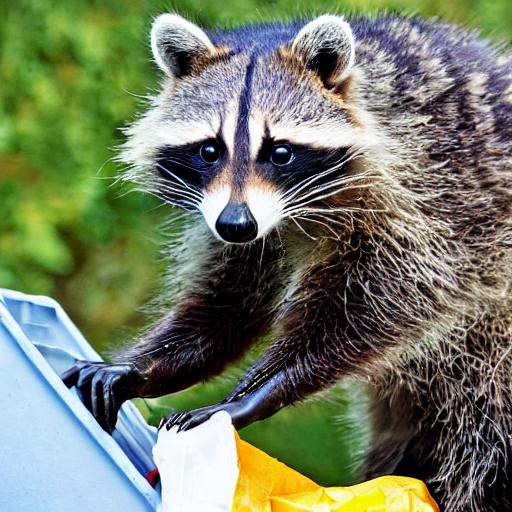raccoon: (107, 0, 512, 408)
